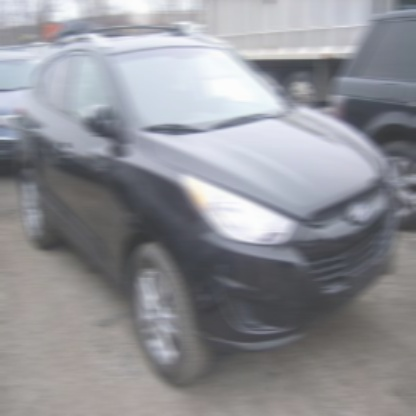Vehicle: (18, 25, 398, 388)
